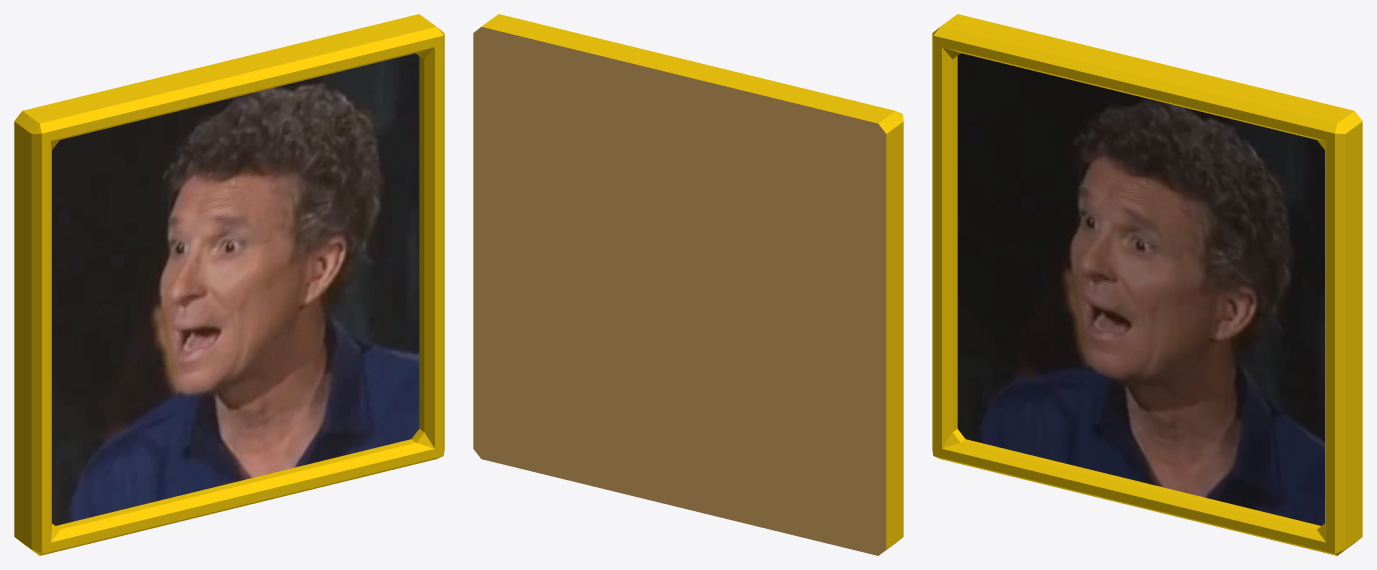
File: Tableau_Denis.FBX
The picture shows the model from 3 angles, left to right: view 1: azimuth 30°, elevation 25°; view 2: azimuth 150°, elevation 25°; view 3: azimuth 330°, elevation 25°; orthographic projection.
Parts seen in each view (by area): view 1: Box001; view 2: Box001; view 3: Box001.
Part boxes in pixels (x1,y1,x2,y2): Box001: (14,14,444,555); Box001: (473,14,903,555); Box001: (932,14,1362,555).
Size of the model in its own units: 43.58 by 43.58 by 4.04.
Materials: 3 (1 with a texture image).
